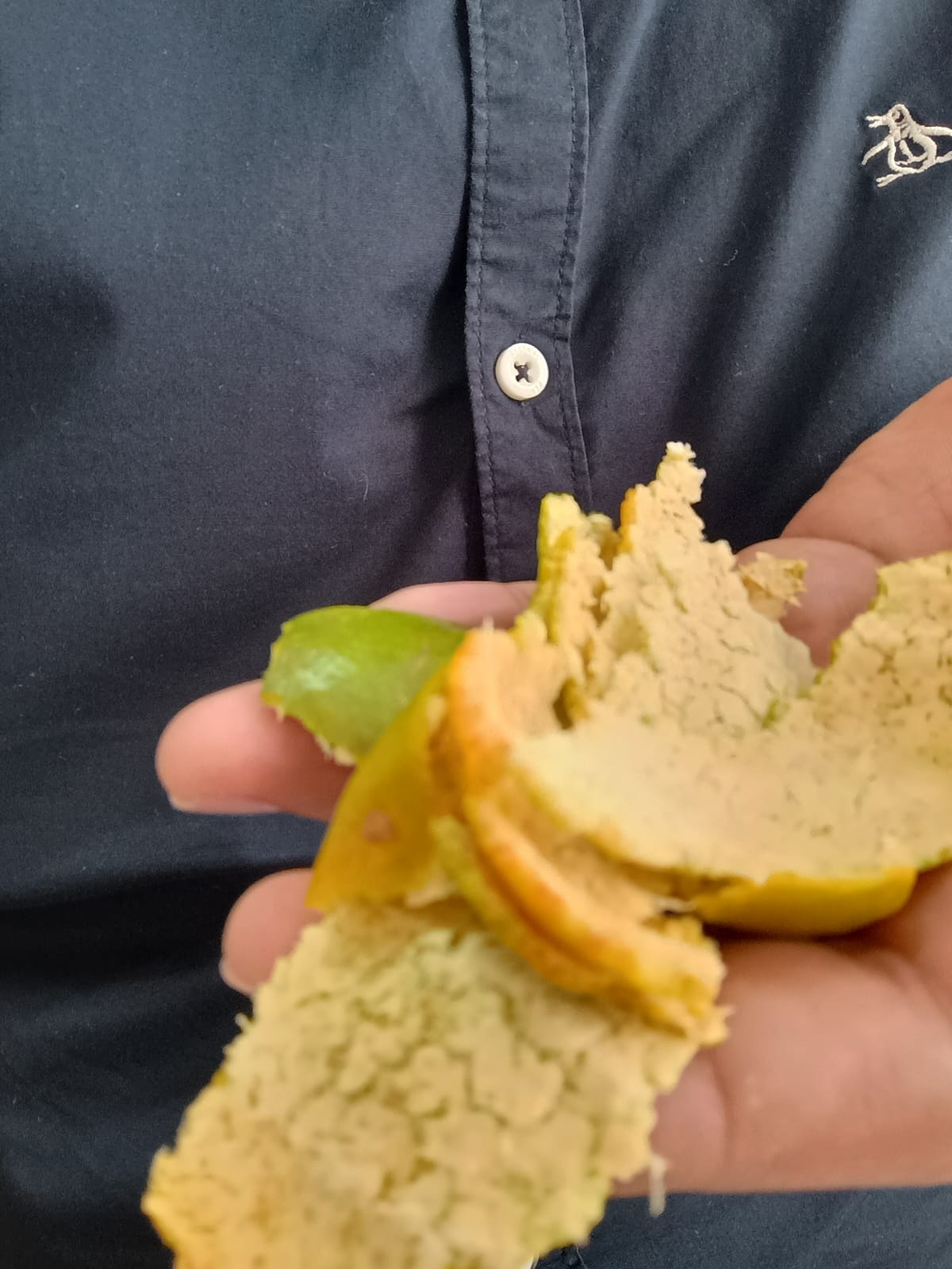Organico: (138, 441, 952, 1269)
